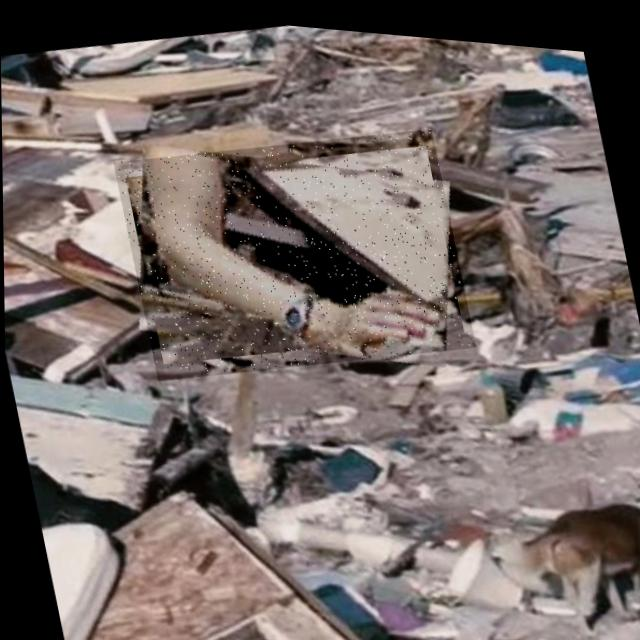Person in Rubble: (112, 98, 476, 401)
